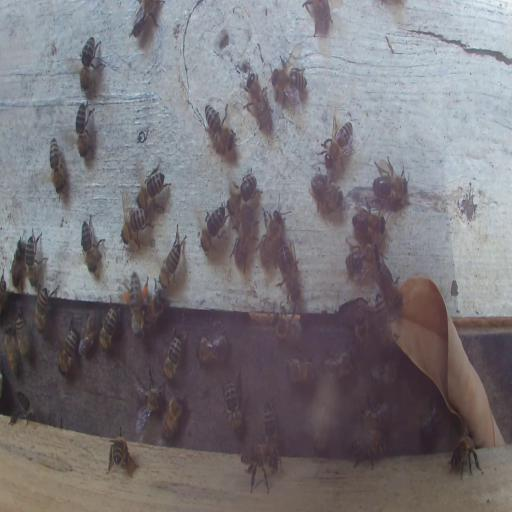nonpollenbee: (239, 439, 280, 493), (322, 107, 354, 172), (373, 155, 410, 210), (135, 161, 172, 215), (270, 52, 308, 104), (372, 291, 400, 356), (160, 225, 188, 288), (203, 103, 236, 154), (447, 432, 482, 479), (222, 376, 250, 432), (378, 261, 409, 311), (80, 216, 105, 276), (260, 208, 288, 261), (232, 218, 260, 271), (310, 169, 342, 215), (79, 35, 104, 93), (200, 201, 228, 252), (134, 371, 164, 418), (119, 203, 151, 247), (354, 204, 389, 243), (352, 430, 386, 469), (225, 173, 258, 213), (277, 238, 298, 300), (74, 98, 95, 160), (244, 70, 267, 126), (106, 434, 135, 478), (24, 231, 46, 289), (58, 316, 78, 378), (346, 240, 378, 278), (162, 327, 184, 382), (130, 0, 162, 37), (141, 280, 165, 327), (272, 305, 303, 341), (302, 0, 334, 34), (360, 393, 390, 429), (195, 332, 228, 364), (161, 393, 183, 441), (34, 284, 56, 332), (313, 396, 332, 450), (370, 356, 404, 385), (99, 300, 118, 351), (49, 136, 65, 196), (284, 355, 316, 384), (323, 348, 354, 376), (79, 312, 98, 357), (11, 237, 26, 290), (4, 323, 17, 380), (12, 391, 34, 423), (264, 398, 278, 448), (16, 309, 29, 357), (355, 303, 368, 348), (1, 274, 6, 309)
pollenbee: (124, 270, 150, 340)
